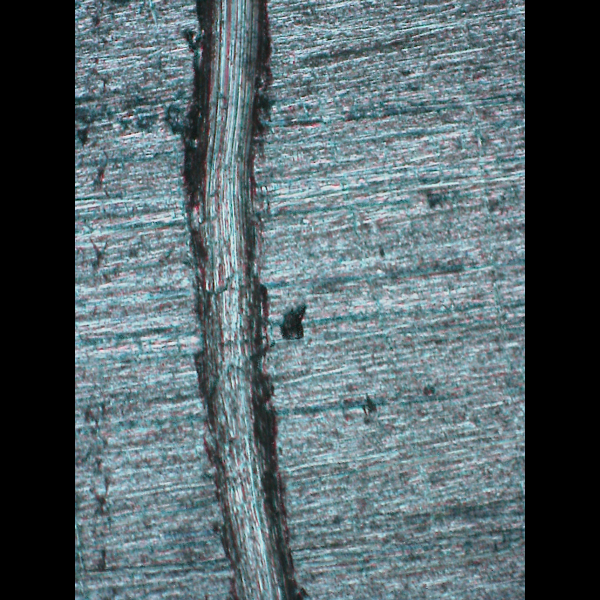d: (179, 0, 312, 599)
